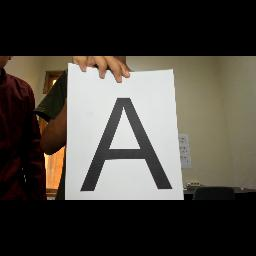a: (78, 92, 178, 196)
